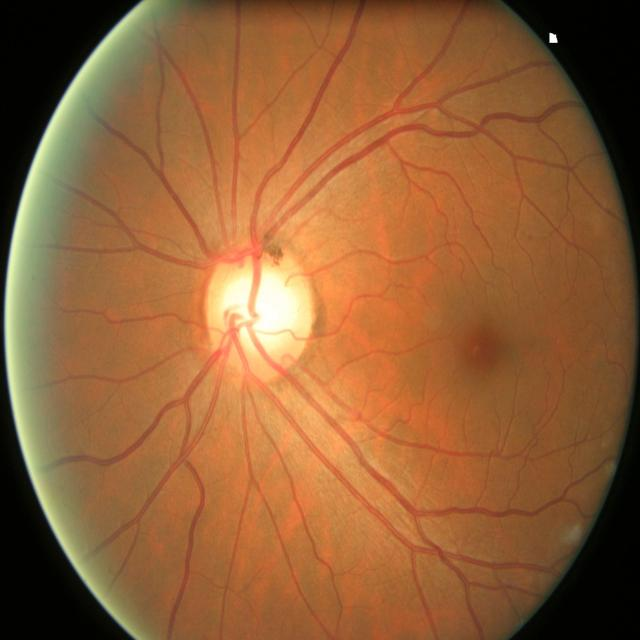OC: (223, 272, 297, 350)
OD: (206, 248, 312, 381)
